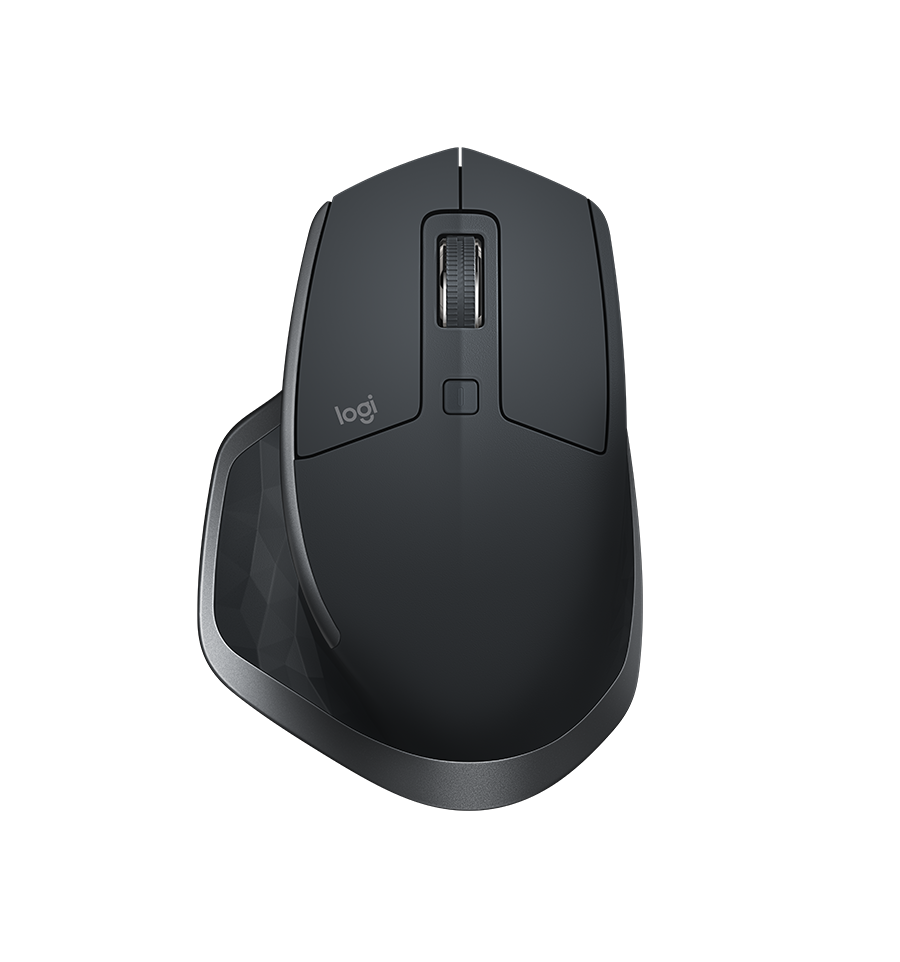Mouse: (187, 140, 660, 825)
